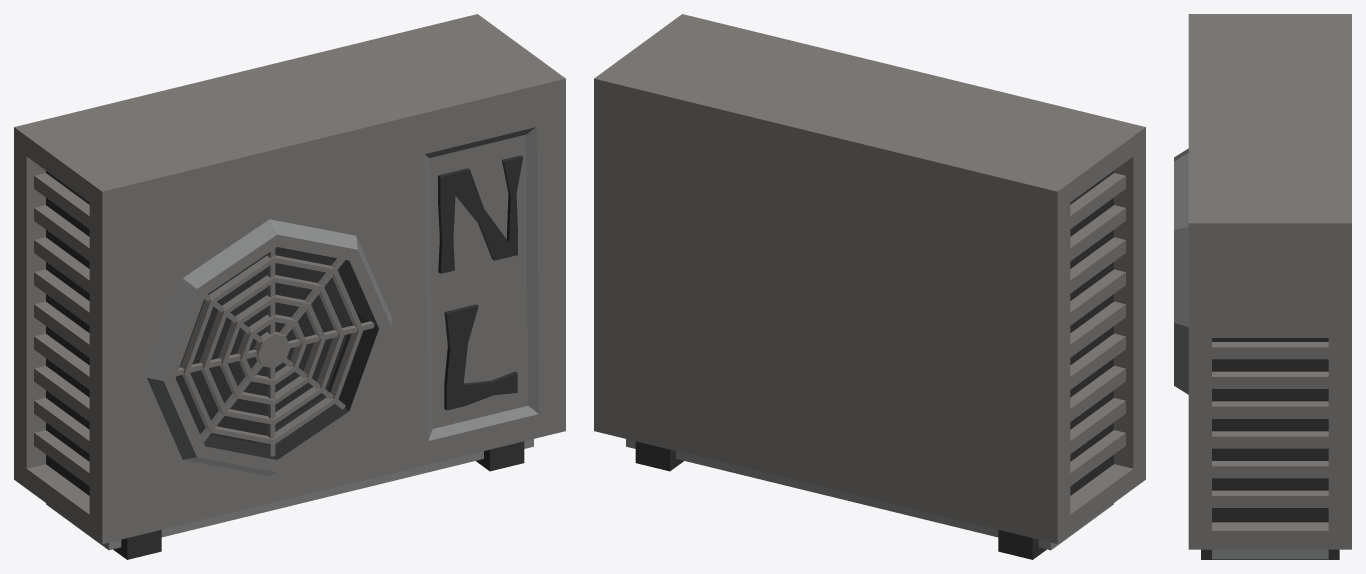
File: Airconditioner_01.FBX
3 views of the same model, side by side, from view 1: azimuth 30°, elevation 25°; view 2: azimuth 150°, elevation 25°; view 3: azimuth 270°, elevation 25° (orthographic). The views are drawn at different scales.
Visible parts, largest first — view 1: Airconditioner_01; view 2: Airconditioner_01; view 3: Airconditioner_01.
Part boxes in pixels (left/top/right/bottom): Airconditioner_01: left=14, top=14, right=565, bottom=559; Airconditioner_01: left=594, top=14, right=1145, bottom=559; Airconditioner_01: left=1174, top=14, right=1351, bottom=559.
Bounding box in the file's own units: 0.7322 × 0.5747 × 0.263.
